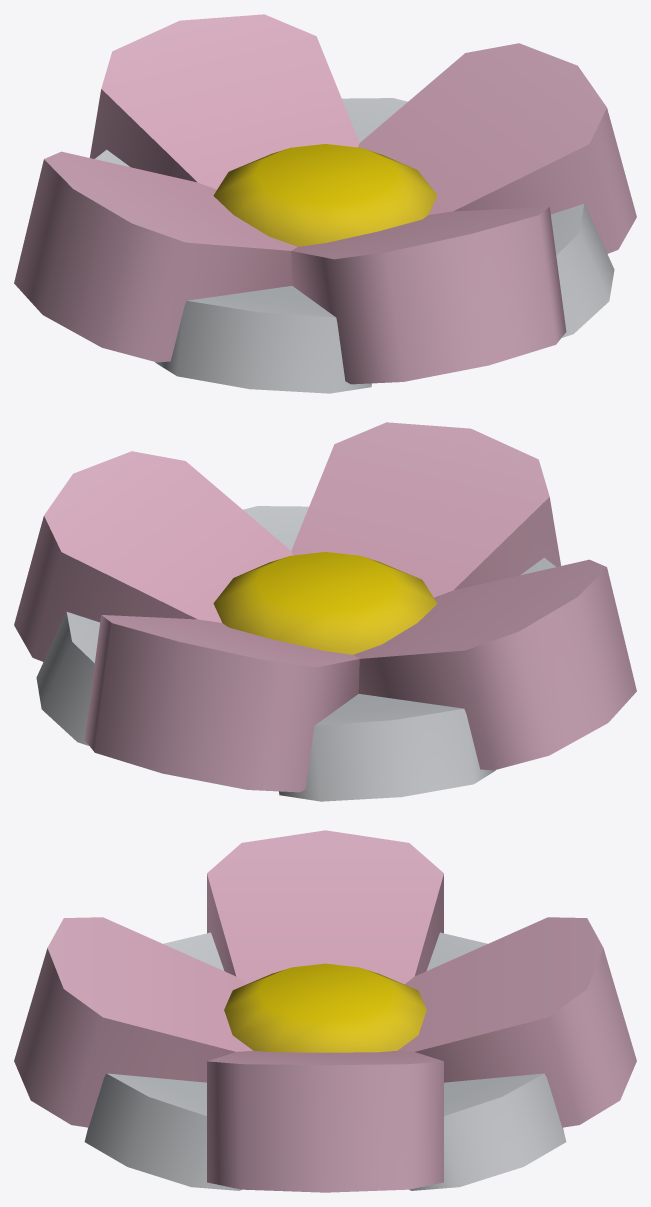
File: flower-e-detailed.glb
The picture shows the model from 3 angles, top to bottom: view 1: azimuth 30°, elevation 25°; view 2: azimuth 150°, elevation 25°; view 3: azimuth 270°, elevation 25°; orthographic projection. The views are drawn at different scales.
Parts seen in each view (by area): view 1: flower-e-detailed; view 2: flower-e-detailed; view 3: flower-e-detailed.
Part boxes in pixels (x1=…): flower-e-detailed: x1=14, y1=14, x2=636, y2=393; flower-e-detailed: x1=14, y1=422, x2=636, y2=801; flower-e-detailed: x1=14, y1=830, x2=636, y2=1192.
Size of the model in its own units: 0.1445 by 0.0442 by 0.1445.
